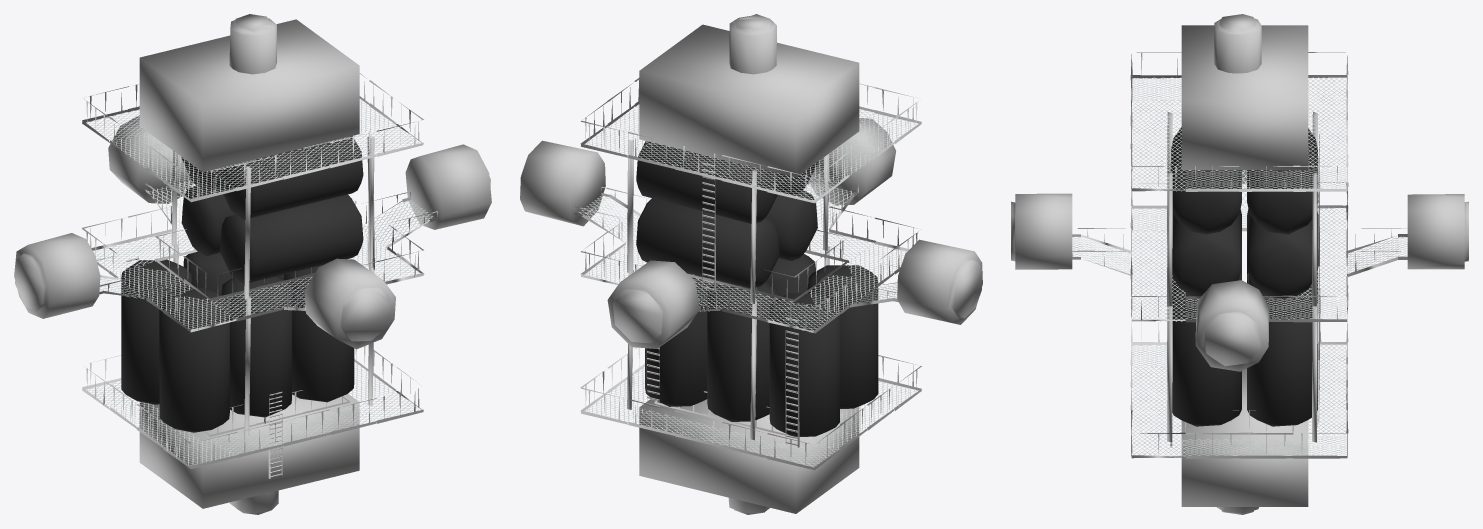
Rendered from Tankmodul.fbx.
The picture shows the model from 3 angles, left to right: view 1: azimuth 30°, elevation 25°; view 2: azimuth 150°, elevation 25°; view 3: azimuth 270°, elevation 25°; orthographic projection.
Visible parts, largest first — view 1: Tankmodul lp; view 2: Tankmodul lp; view 3: Tankmodul lp.
Boxes of the visible parts, x1,y1,x2,y2 form: Tankmodul lp: (14,14,491,514); Tankmodul lp: (520,14,982,514); Tankmodul lp: (1011,14,1468,514).
Size of the model in its own units: 1411 by 1483 by 1269.
